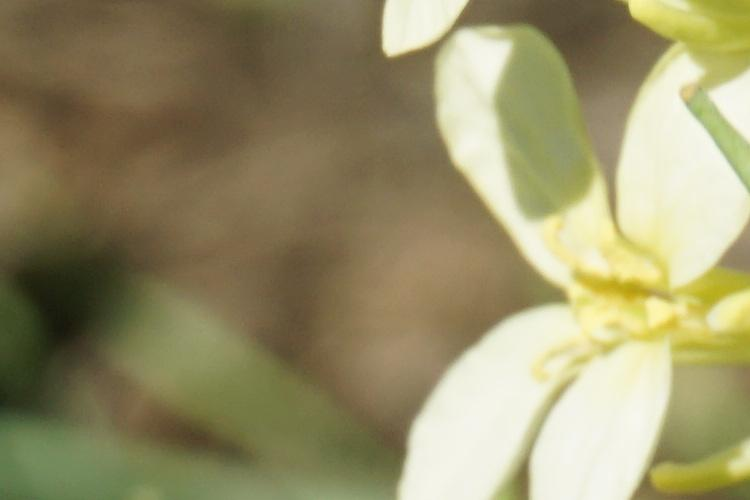white: (413, 32, 750, 493)
